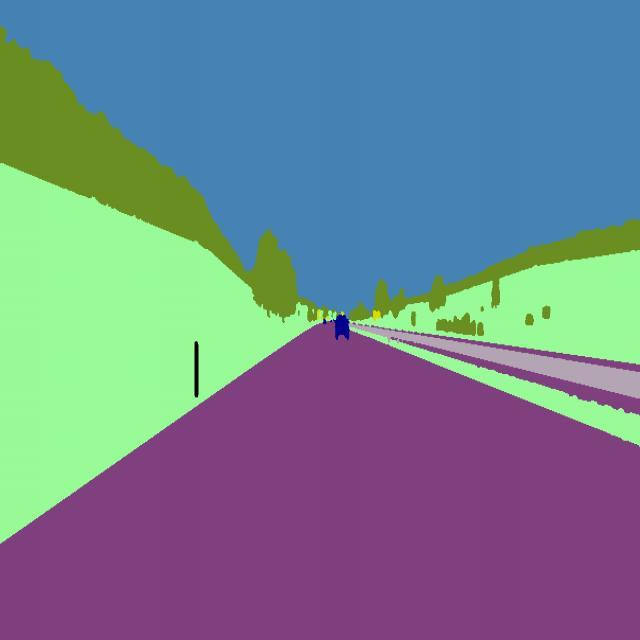safe: (334, 310, 351, 346)
